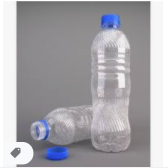Bottle: (92, 14, 132, 150), (31, 106, 131, 145)
